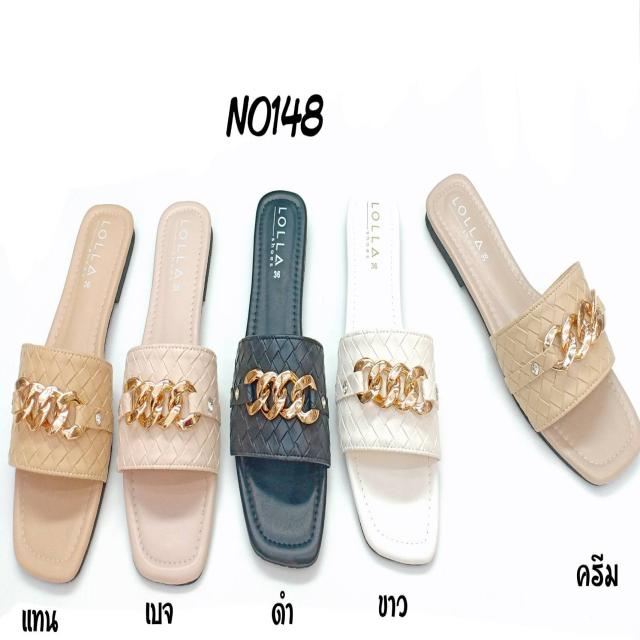bej: (128, 199, 213, 579)
black: (243, 190, 323, 565)
cream: (432, 169, 640, 496)
tan: (16, 204, 128, 586)
white: (340, 192, 440, 564)
